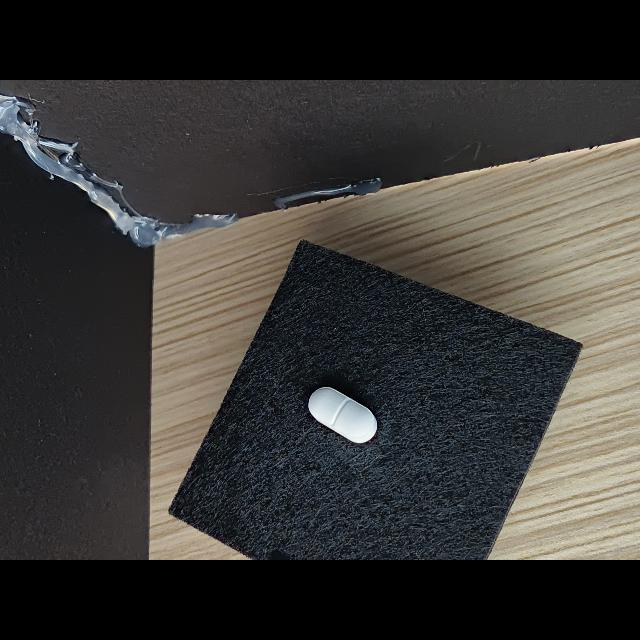Intact Pill: (308, 387, 377, 443)
